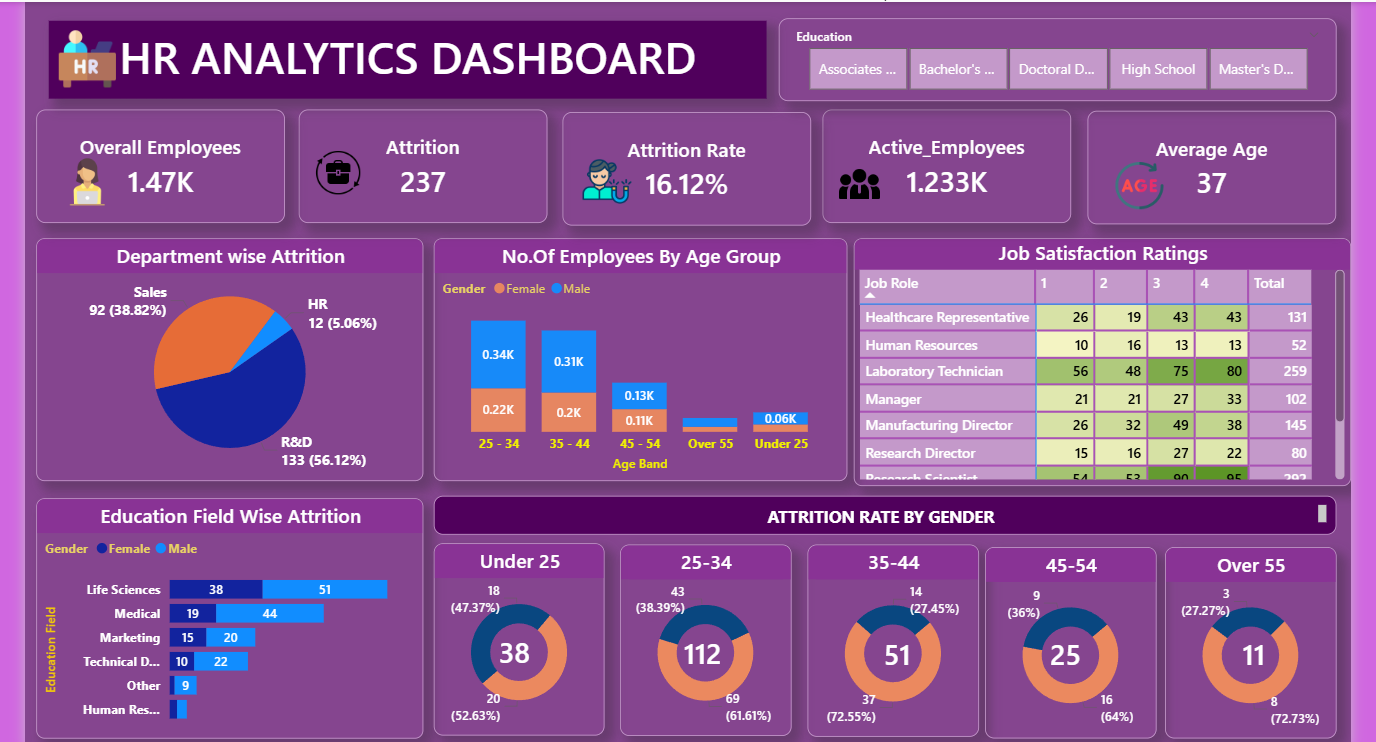

This screenshot's page, from the dashboard's own definition file:
{"tool":"powerbi","page":{"name":"Attrition Overview","canvas":[1280,720],"ordinal":0},"visuals":[{"type":"textbox","box":[23.3,17.8,693,75.5],"z":0},{"type":"image","box":[32.6,19.3,55.5,71.2],"z":1000},{"type":"pieChart","title":"Department wise Attrition","fields":{"Category":["HR data.Department"],"Y":["Sum(HR data.Attrition_Count)"]},"box":[10.9,228,374,234],"z":2000},{"type":"columnChart","title":"No.Of Employees By Age Group","fields":{"Category":["HR data.CF_age band"],"Y":["CountNonNull(HR data.Employee Number)"],"Series":["HR data.Gender"]},"box":[394.5,228,399.3,234],"z":3000},{"type":"pivotTable","title":"Job Satisfaction Ratings","fields":{"Rows":["HR data.Job Role"],"Columns":["HR data.Job Satisfaction"],"Values":["CountNonNull(HR data.Employee Number)"]},"box":[799.9,228,465.7,238.9],"z":4000},{"type":"barChart","title":"Education Field Wise Attrition","fields":{"Category":["HR data.Education Field"],"Y":["Sum(HR data.Attrition_Count)"],"Series":["HR data.Gender"]},"box":[10.9,479,374,231.6],"z":5000},{"type":"cardVisual","fields":{"Data":["HR data.Active_Employees"]},"box":[774.3,118.2,240.1,100],"z":6000},{"type":"cardVisual","fields":{"Data":["CountNonNull(HR data.Employee Count)"]},"box":[20.7,118.9,240.1,100],"z":6000,"group":"g7"},{"type":"cardVisual","fields":{"Data":["Sum(HR data.Attrition_Count)"]},"box":[271.9,120.6,240.1,100],"z":7000,"group":"g9"},{"type":"textbox","box":[400.5,476.5,861.4,45.8],"z":7000},{"type":"cardVisual","fields":{"Data":["HR data.Attrition_Rate"]},"box":[523.1,118.2,240.1,99.9],"z":8000,"group":"g5"},{"type":"donutChart","title":"25-34","fields":{"Category":["HR data.Gender"],"Series":["HR data.CF_age band"],"Y":["Sum(HR data.Attrition_Count)"]},"box":[565.8,521.2,174.9,184.6],"z":8000},{"type":"slicer","fields":{"Values":["HR data.Education"]},"box":[727.5,15.7,538.1,79.6],"z":9000},{"type":"cardVisual","fields":{"Data":["Avg(HR data.Age)"]},"box":[1025.5,117,240.1,100],"z":10000,"group":"g8"},{"type":"image","box":[781.8,154.4,47.1,42.2],"z":10000},{"type":"group","id":"g1","title":"Group 2","box":[400.5,521.2,165.3,185.8],"z":11000},{"type":"donutChart","title":"Under 25","fields":{"Category":["HR data.Gender"],"Y":["Sum(HR data.Attrition_Count)"],"Series":["HR data.CF_age band"]},"box":[400.5,521.2,165.3,185.8],"z":11000,"group":"g1"},{"type":"group","id":"g2","title":"Group 3","box":[740.8,521.2,174.9,185.8],"z":12000},{"type":"group","id":"g3","title":"Group 4","box":[915.7,521.2,174.9,184.6],"z":13000},{"type":"donutChart","title":"35-44","fields":{"Category":["HR data.Gender"],"Y":["Sum(HR data.Attrition_Count)"],"Series":["HR data.CF_age band"]},"box":[740.8,521.2,174.9,185.8],"z":14000,"group":"g10"},{"type":"group","id":"g4","title":"Group 5","box":[1087,521.2,174.9,184.6],"z":14000},{"type":"group","id":"g5","title":"Group 6","box":[523.1,118.2,240.1,100],"z":15000},{"type":"donutChart","title":"45-54","fields":{"Category":["HR data.Gender"],"Y":["Sum(HR data.Attrition_Count)"],"Series":["HR data.CF_age band"]},"box":[915.7,521.2,174.9,184.6],"z":15000,"group":"g3"},{"type":"group","id":"g6","title":"Group 7","box":[271.9,120.6,240.1,100],"z":16000},{"type":"donutChart","title":"Over 55","fields":{"Category":["HR data.Gender"],"Y":["Sum(HR data.Attrition_Count)"],"Series":["HR data.CF_age band"]},"box":[1087,521.2,174.9,184.6],"z":16000,"group":"g4"},{"type":"group","id":"g7","title":"Group 8","box":[20.7,118.9,240.1,100],"z":17000},{"type":"cardVisual","fields":{"Data":["Sum(HR data.Attrition_Count)"]},"box":[433.5,564.9,100.1,120.6],"z":17000,"group":"g1"},{"type":"group","id":"g8","title":"Group 10","box":[1025.5,117,240.1,100],"z":18000},{"type":"image","box":[1040,154.4,47.1,47.1],"z":19000},{"type":"cardVisual","fields":{"Data":["Sum(HR data.Attrition_Count)"]},"box":[788,565.8,106,119.4],"z":19000,"group":"g10"},{"type":"cardVisual","fields":{"Data":["Sum(HR data.Attrition_Count)"]},"box":[951.7,563.3,106,119.4],"z":20000,"group":"g3"},{"type":"cardVisual","fields":{"Data":["Sum(HR data.Attrition_Count)"]},"box":[603.2,569.4,124.3,112.2],"z":20000},{"type":"group","id":"g9","title":"Group 9","box":[271.9,120.6,240.1,100],"z":20001,"group":"g6"},{"type":"cardVisual","fields":{"Data":["Sum(HR data.Attrition_Count)"]},"box":[1135.7,563.9,114.6,125.5],"z":21000,"group":"g4"},{"type":"image","box":[33.1,153.9,50.7,51.9],"z":23000,"group":"g7"},{"type":"image","box":[285.1,145.1,47.1,57.8],"z":24000,"group":"g9"},{"type":"image","box":[542.4,154.4,47.1,49.4],"z":27000,"group":"g5"},{"type":"group","id":"g10","title":"Group 1","box":[740.8,521.2,174.9,185.8],"z":27011,"group":"g2"}]}

Visuals, with their boxes on the page's 1280x720 design canvas (x1, y1, x2, y2). These are canvas units, not pixel positions in the 1376x742 screenshot, which may show the page scaled, cropped or inside an application window:
textbox: (x1=23, y1=18, x2=716, y2=93)
image: (x1=33, y1=19, x2=88, y2=90)
"Department wise Attrition" pieChart: (x1=11, y1=228, x2=385, y2=462)
"No.Of Employees By Age Group" columnChart: (x1=394, y1=228, x2=794, y2=462)
"Job Satisfaction Ratings" pivotTable: (x1=800, y1=228, x2=1266, y2=467)
"Education Field Wise Attrition" barChart: (x1=11, y1=479, x2=385, y2=711)
cardVisual - HR data.Active_Employees: (x1=774, y1=118, x2=1014, y2=218)
cardVisual - CountNonNull(HR data.Employee Count): (x1=21, y1=119, x2=261, y2=219)
cardVisual - Sum(HR data.Attrition_Count): (x1=272, y1=121, x2=512, y2=221)
textbox: (x1=400, y1=476, x2=1262, y2=522)
cardVisual - HR data.Attrition_Rate: (x1=523, y1=118, x2=763, y2=218)
"25-34" donutChart: (x1=566, y1=521, x2=741, y2=706)
slicer - HR data.Education: (x1=728, y1=16, x2=1266, y2=95)
cardVisual - Avg(HR data.Age): (x1=1026, y1=117, x2=1266, y2=217)
image: (x1=782, y1=154, x2=829, y2=197)
"Group 2" group: (x1=400, y1=521, x2=566, y2=707)
"Under 25" donutChart: (x1=400, y1=521, x2=566, y2=707)
"Group 3" group: (x1=741, y1=521, x2=916, y2=707)
"Group 4" group: (x1=916, y1=521, x2=1091, y2=706)
"35-44" donutChart: (x1=741, y1=521, x2=916, y2=707)
"Group 5" group: (x1=1087, y1=521, x2=1262, y2=706)
"Group 6" group: (x1=523, y1=118, x2=763, y2=218)
"45-54" donutChart: (x1=916, y1=521, x2=1091, y2=706)
"Group 7" group: (x1=272, y1=121, x2=512, y2=221)
"Over 55" donutChart: (x1=1087, y1=521, x2=1262, y2=706)
"Group 8" group: (x1=21, y1=119, x2=261, y2=219)
cardVisual - Sum(HR data.Attrition_Count): (x1=434, y1=565, x2=534, y2=686)
"Group 10" group: (x1=1026, y1=117, x2=1266, y2=217)
image: (x1=1040, y1=154, x2=1087, y2=202)
cardVisual - Sum(HR data.Attrition_Count): (x1=788, y1=566, x2=894, y2=685)
cardVisual - Sum(HR data.Attrition_Count): (x1=952, y1=563, x2=1058, y2=683)
cardVisual - Sum(HR data.Attrition_Count): (x1=603, y1=569, x2=728, y2=682)
"Group 9" group: (x1=272, y1=121, x2=512, y2=221)
cardVisual - Sum(HR data.Attrition_Count): (x1=1136, y1=564, x2=1250, y2=689)
image: (x1=33, y1=154, x2=84, y2=206)
image: (x1=285, y1=145, x2=332, y2=203)
image: (x1=542, y1=154, x2=590, y2=204)
"Group 1" group: (x1=741, y1=521, x2=916, y2=707)
